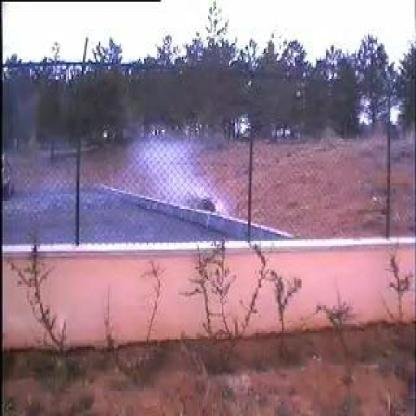-: (48, 134, 247, 238)
